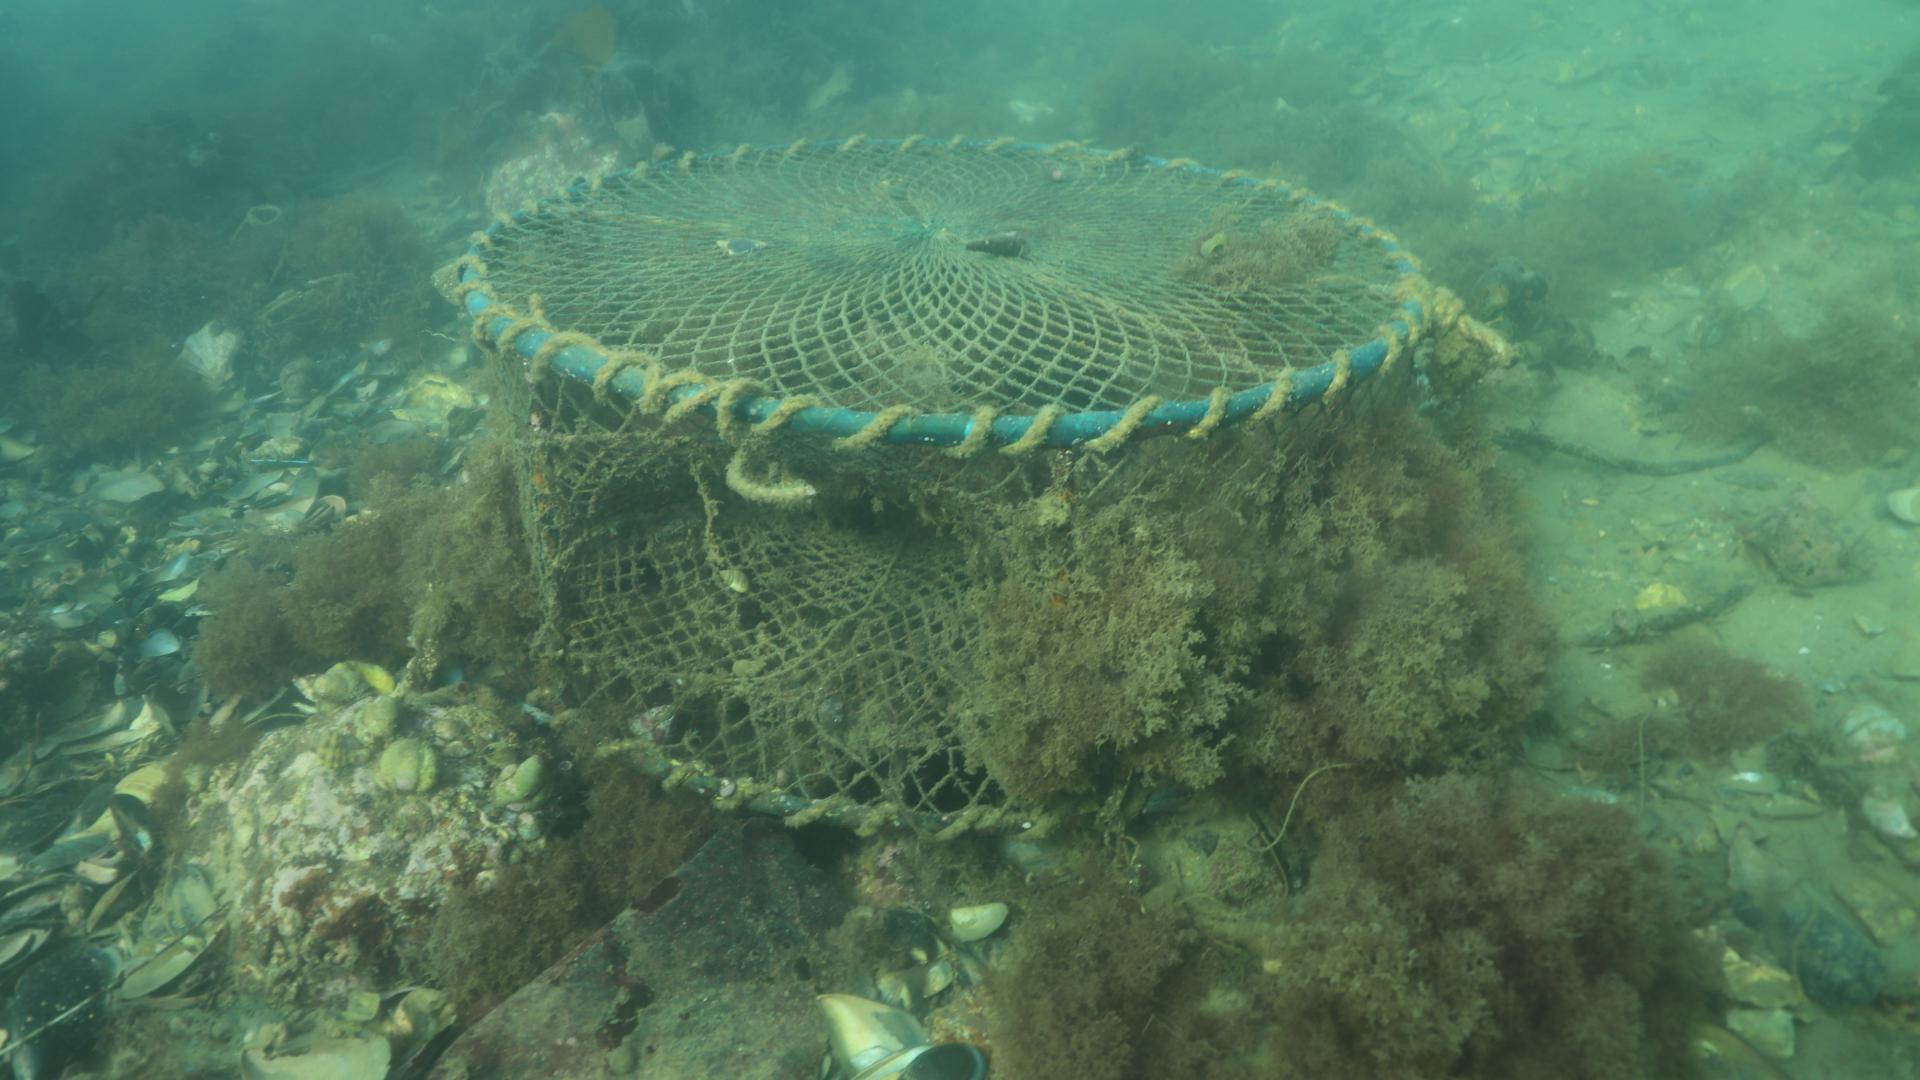circular fish trap: (446, 133, 1447, 839)
